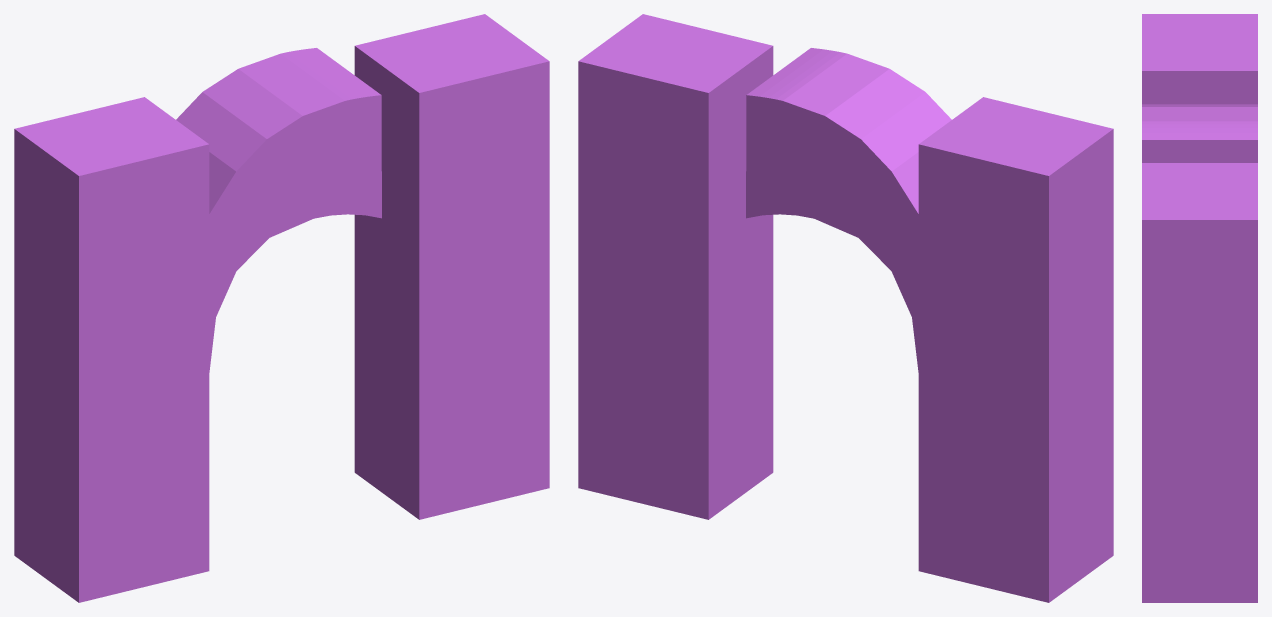
File: suku_kecil_ri.glb
3 renders of one model, left to right at view 1: azimuth 30°, elevation 25°; view 2: azimuth 150°, elevation 25°; view 3: azimuth 270°, elevation 25°, orthographic. The views are drawn at different scales.
Parts seen in each view (by area): view 1: geometry_0; view 2: geometry_0; view 3: geometry_0.
Boxes of the visible parts, x1=… form: geometry_0: x1=14, y1=14, x2=549, y2=602; geometry_0: x1=578, y1=14, x2=1113, y2=602; geometry_0: x1=1142, y1=14, x2=1257, y2=602.
Size of the model in its own units: 6.31 by 5.6 by 1.5.
